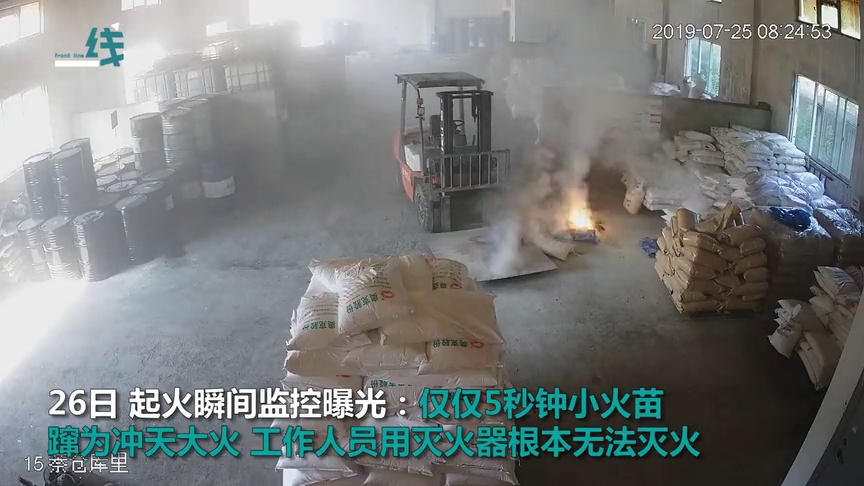fire: (562, 187, 596, 230)
smoke: (494, 129, 560, 243), (546, 71, 596, 178)
